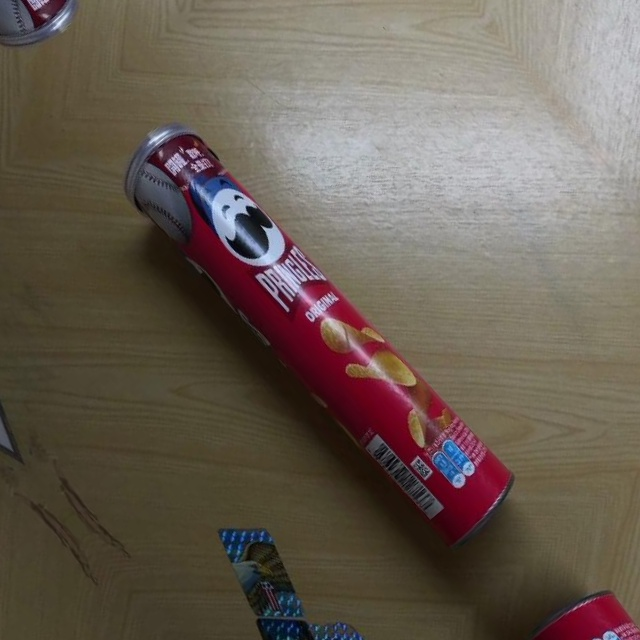Pringles: (100, 92, 530, 571)
